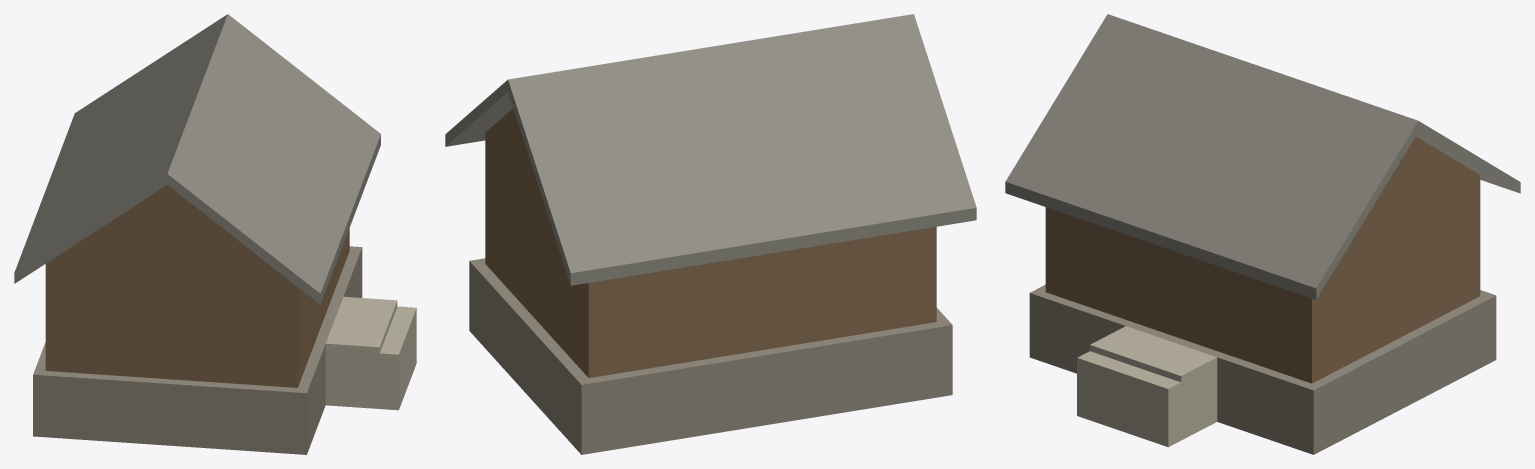
Rendered from SM_FishersCove_House1.fbx.
The picture shows the model from 3 angles, left to right: view 1: azimuth 30°, elevation 25°; view 2: azimuth 150°, elevation 25°; view 3: azimuth 270°, elevation 25°; orthographic projection. The views are drawn at different scales.
Parts seen in each view (by area): view 1: SM_FishersCove_House1; view 2: SM_FishersCove_House1; view 3: SM_FishersCove_House1.
Boxes of the visible parts, bbox=[...] form: SM_FishersCove_House1: bbox=[14, 14, 416, 454]; SM_FishersCove_House1: bbox=[445, 14, 976, 454]; SM_FishersCove_House1: bbox=[1005, 14, 1520, 454].
Bounding box in the file's own units: 7.93 × 5.06 × 8.11.
